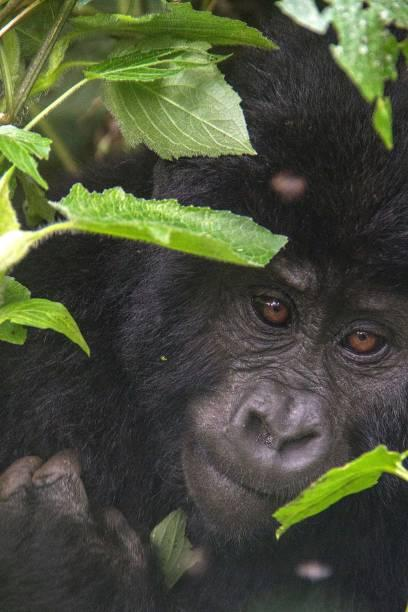goriile_montagne: (23, 16, 408, 612)
